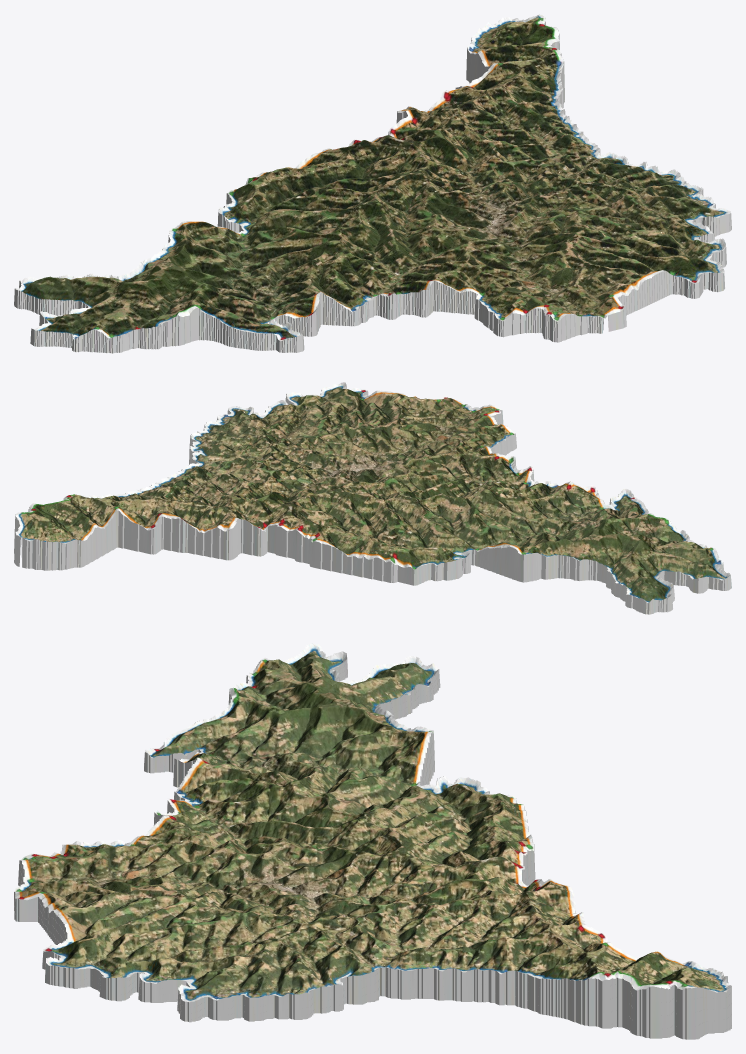
3 views of the same model, one above another, from view 1: azimuth 30°, elevation 25°; view 2: azimuth 150°, elevation 25°; view 3: azimuth 270°, elevation 25° (orthographic). The views are drawn at different scales.
Size of the model in its own units: 0.9998 by 0.0636 by 0.8009.
Materials: 1 (1 with a texture image).
